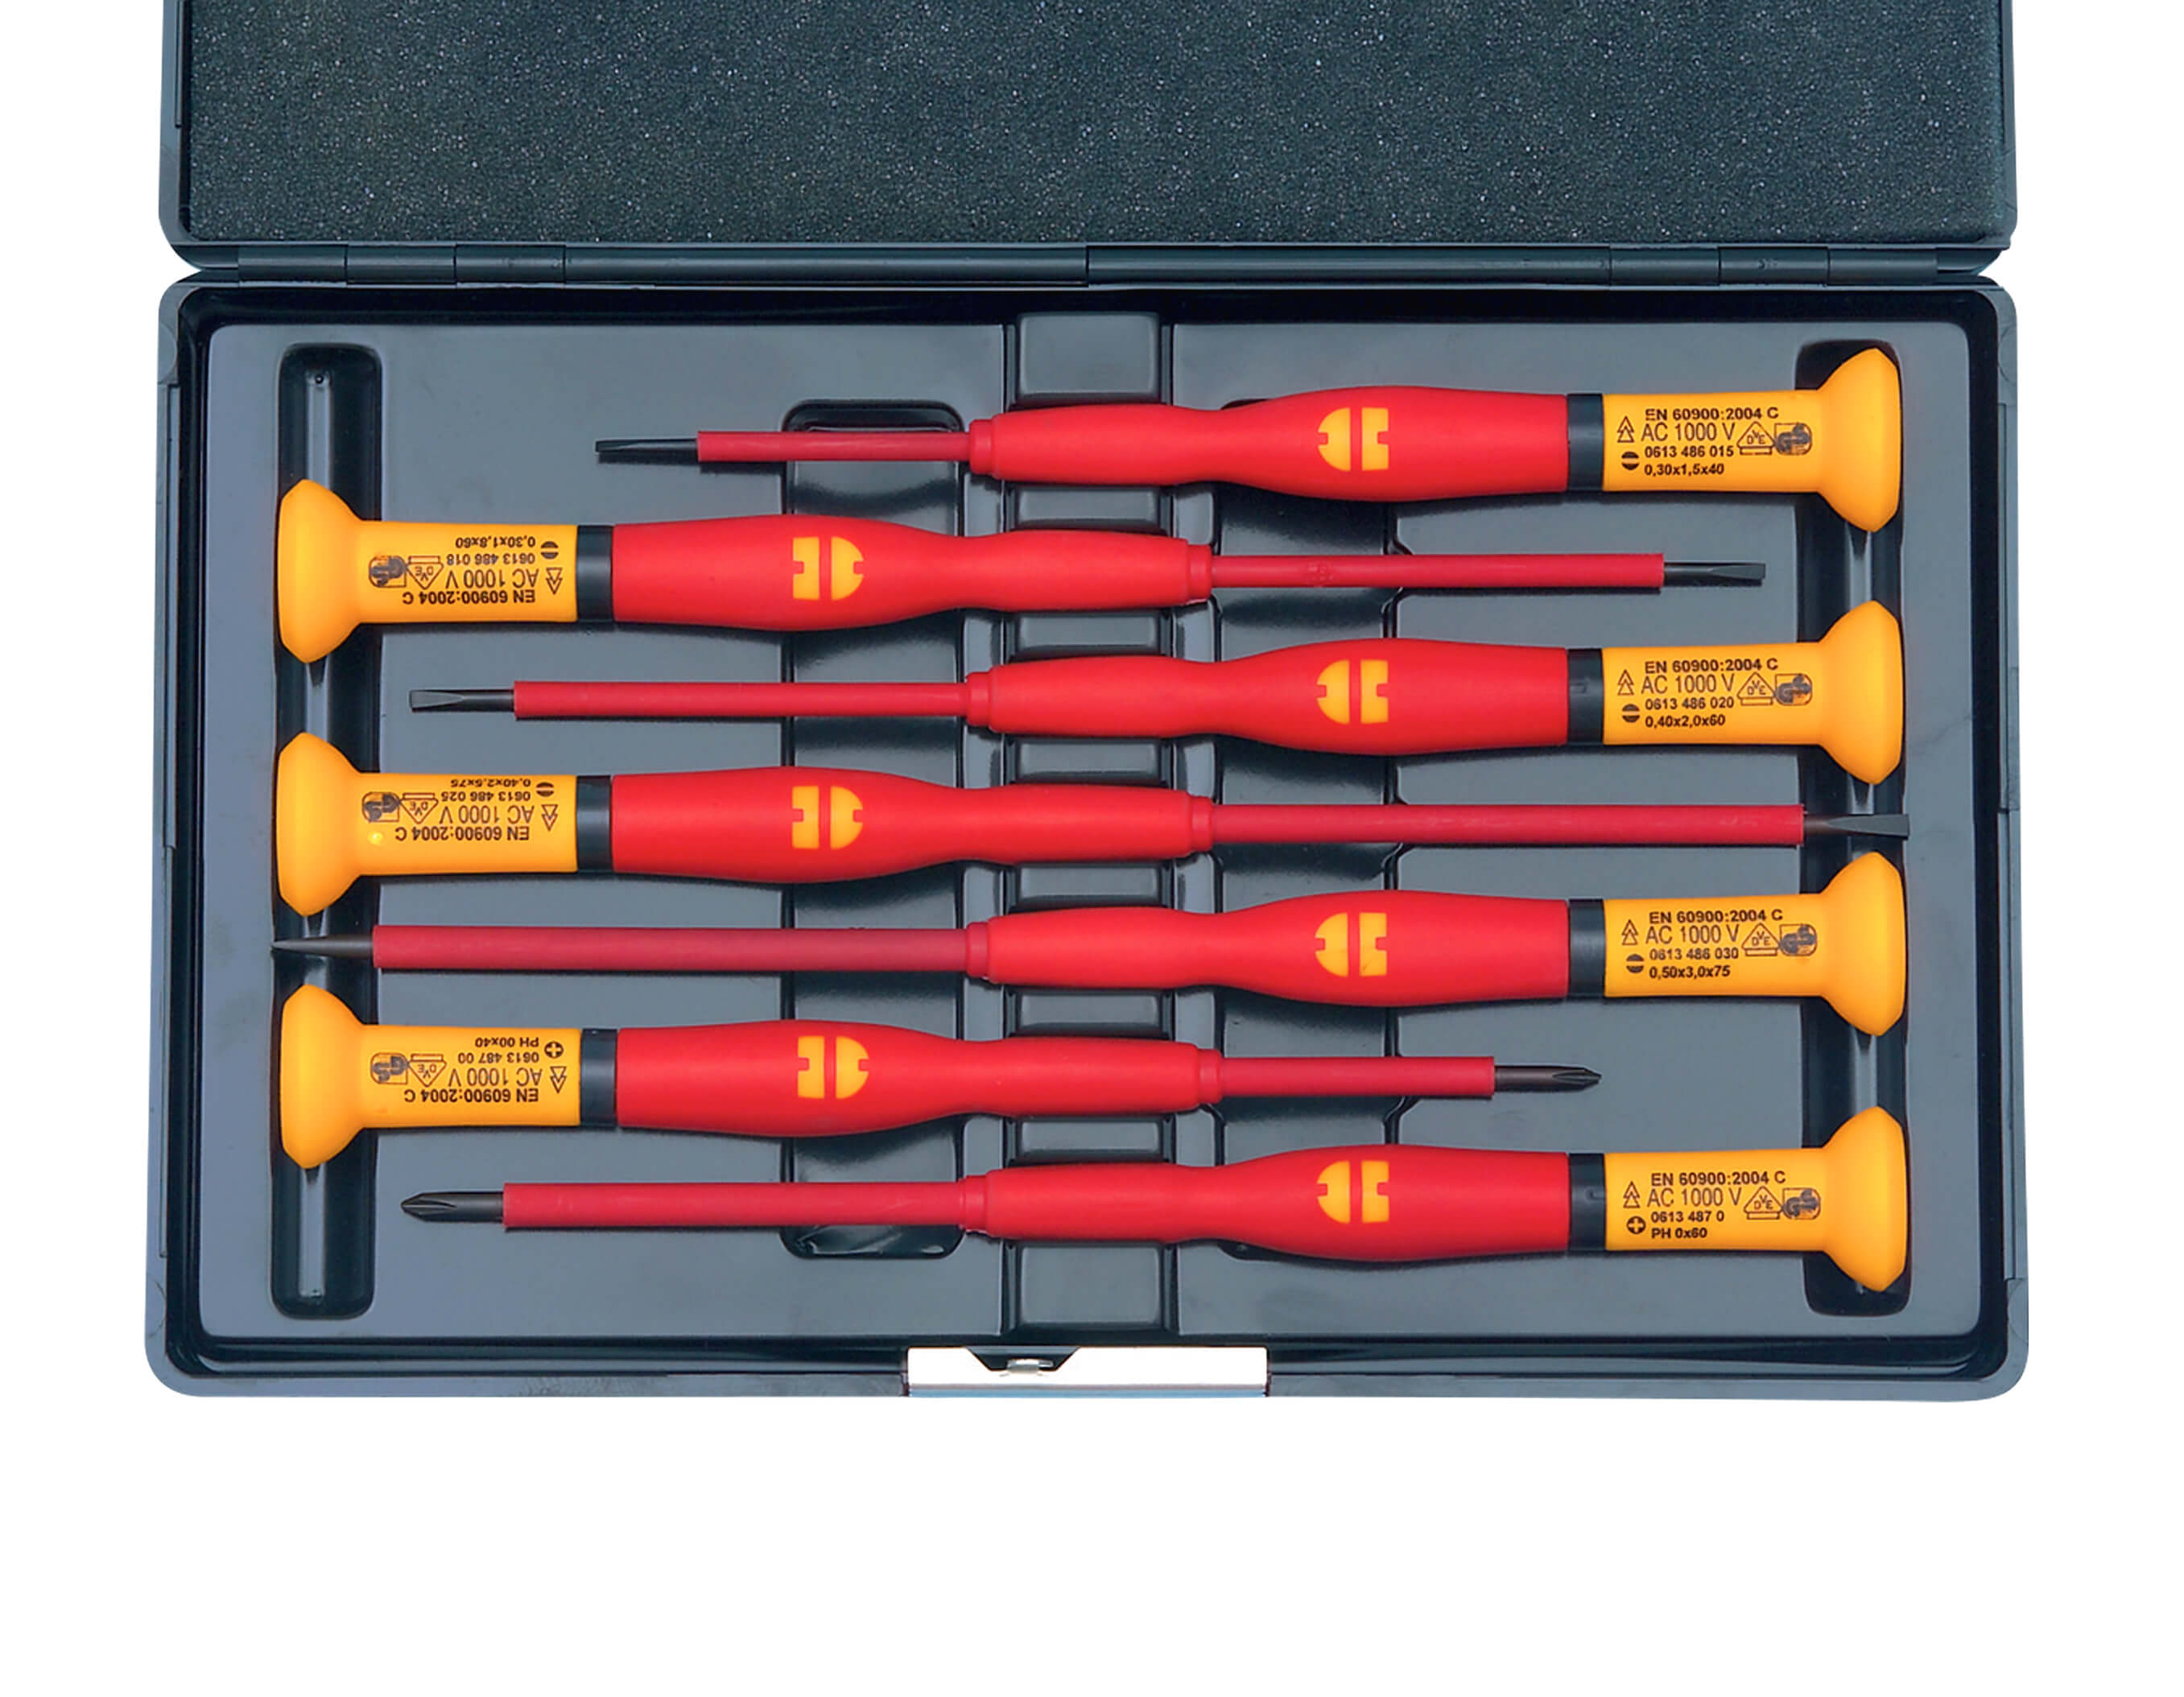screwdriver: (275, 729, 1913, 920), (264, 855, 1911, 1039), (386, 1101, 1911, 1300), (404, 598, 1911, 787), (268, 481, 1787, 665), (271, 979, 1610, 1176), (596, 342, 1918, 534)
